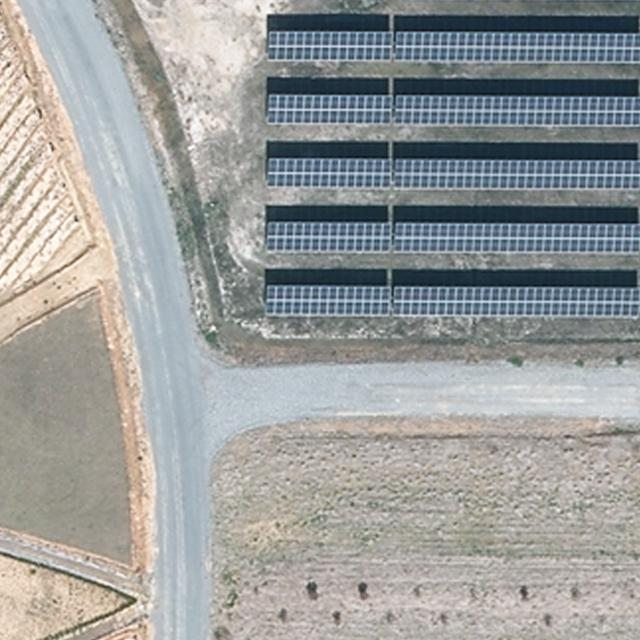panel: (391, 221, 639, 258), (391, 284, 639, 320), (392, 156, 639, 191), (393, 29, 639, 64), (392, 92, 639, 126), (264, 220, 392, 256), (263, 283, 392, 318), (264, 156, 392, 191), (265, 29, 393, 62), (265, 92, 393, 124)
